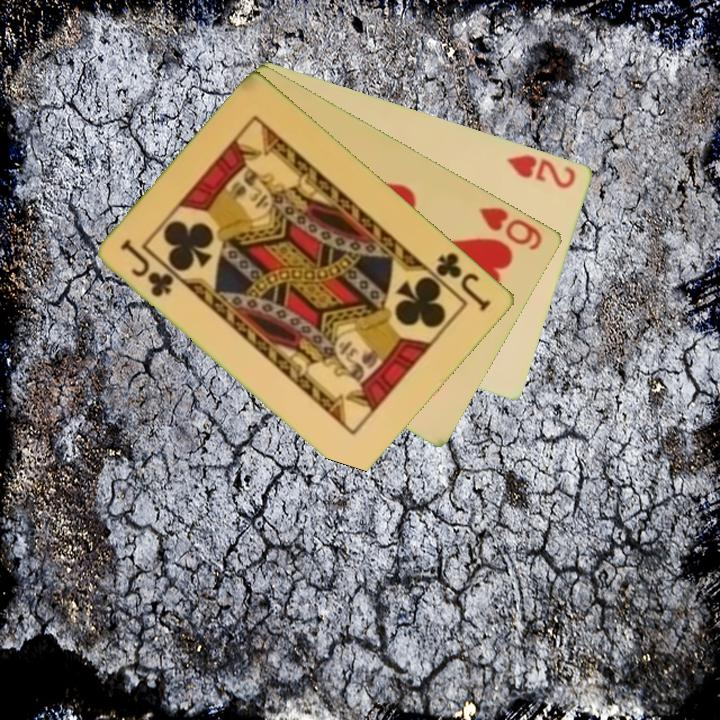2h: (504, 150, 579, 192)
6h: (476, 203, 546, 254)
Jc: (433, 248, 495, 314), (117, 236, 178, 301)
